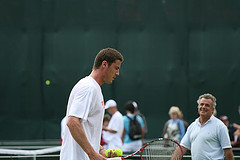tennis ball: (113, 145, 123, 158), (104, 147, 114, 159), (45, 79, 51, 86)
